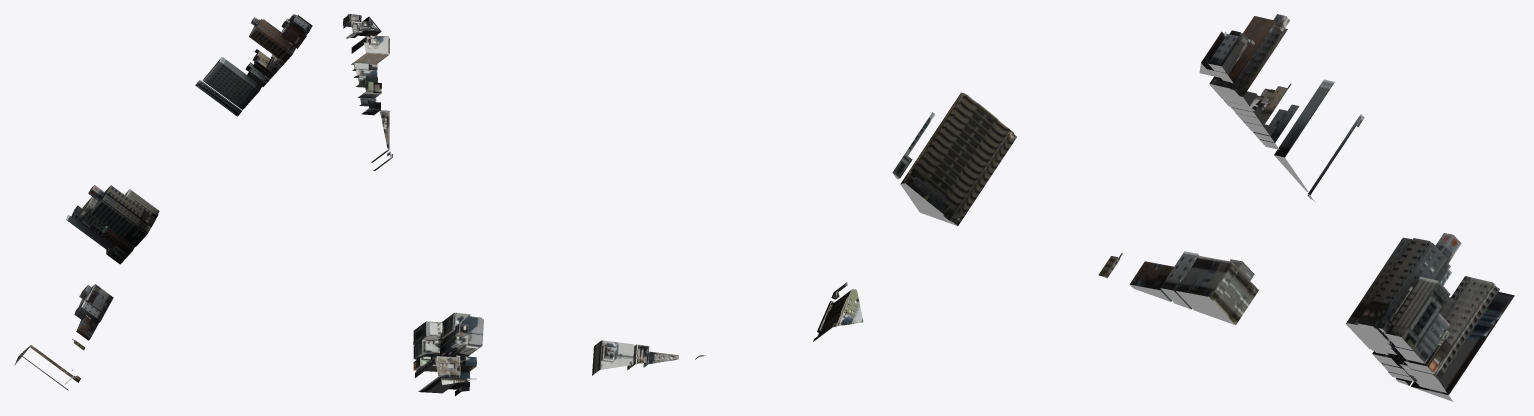
Rendered from 19764_bldg_Building.glb.
3 views of the same model, side by side, from view 1: azimuth 30°, elevation 25°; view 2: azimuth 150°, elevation 25°; view 3: azimuth 270°, elevation 25° (orthographic). The views are drawn at different scales.
Bounding box in the file's own units: 283 × 186 × 223.
Materials: 2 (1 with a texture image).
